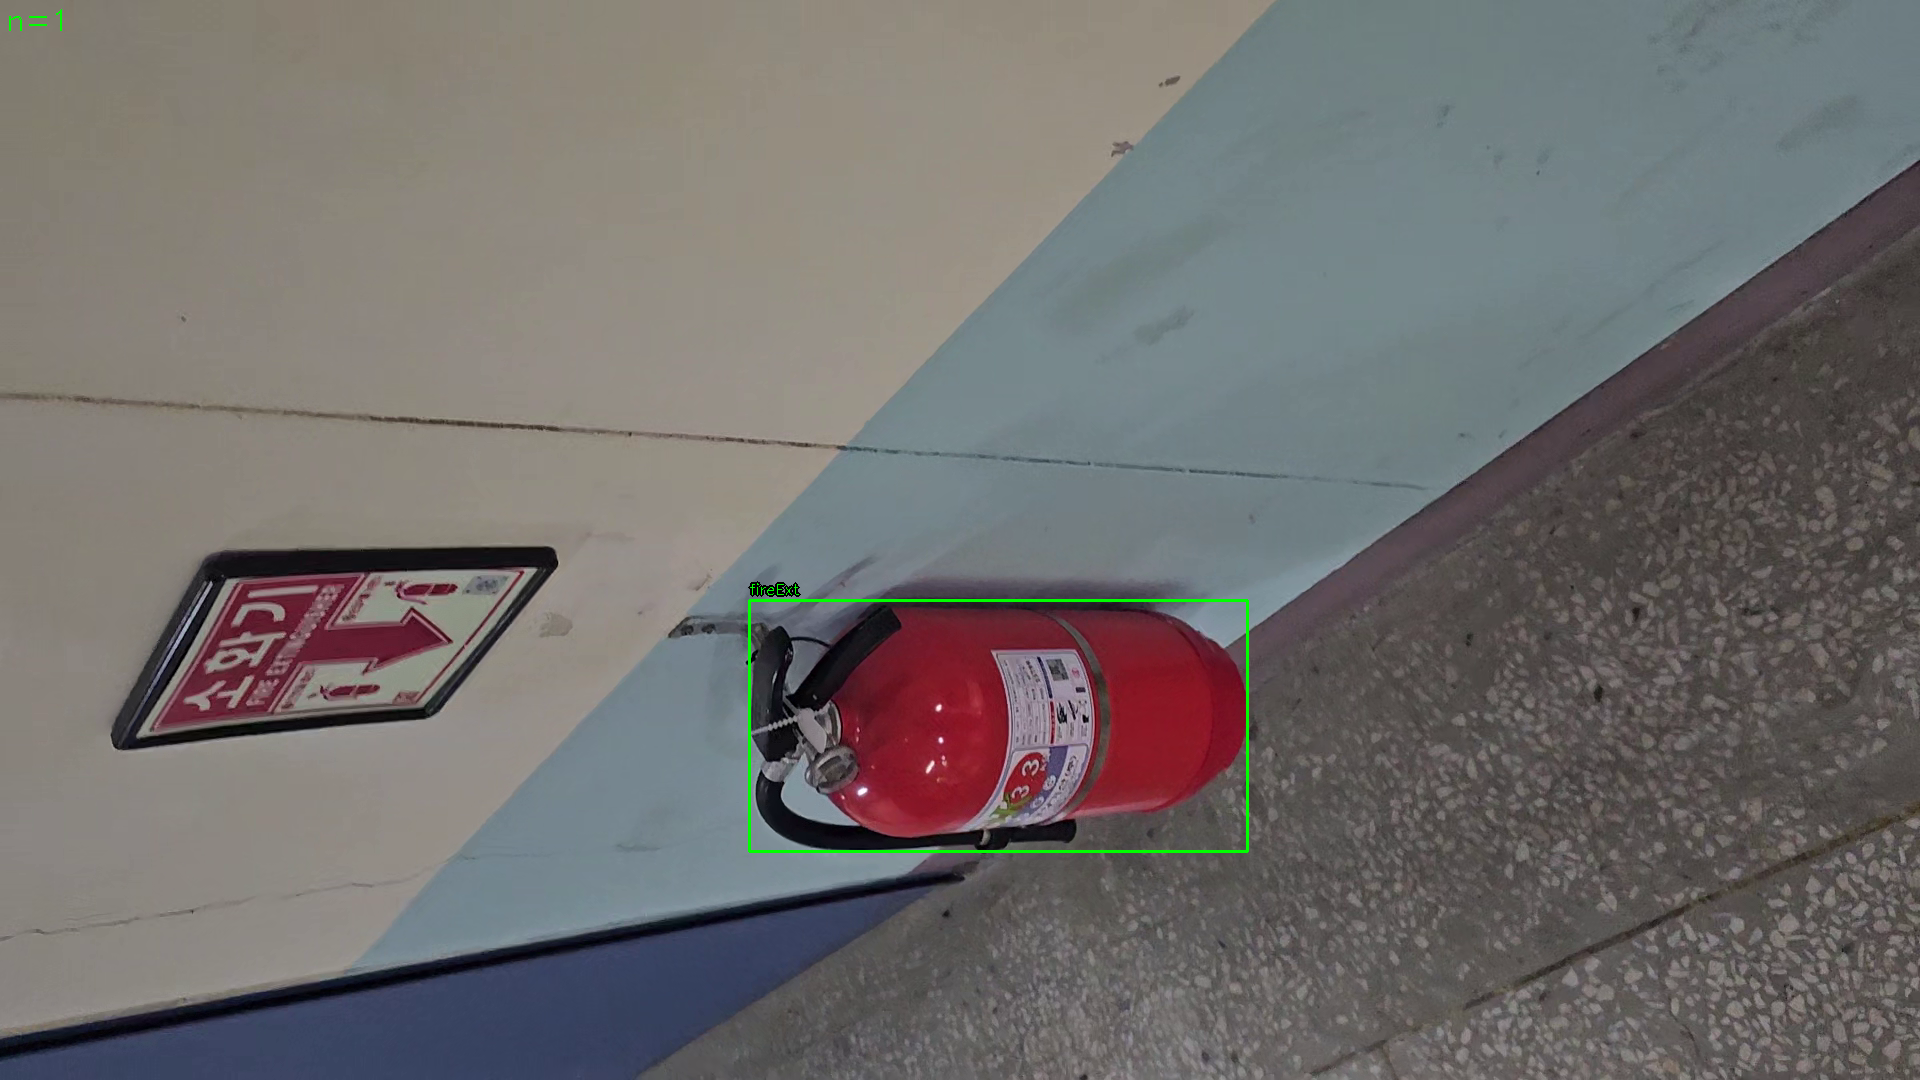lane: (749, 600, 1247, 852)
